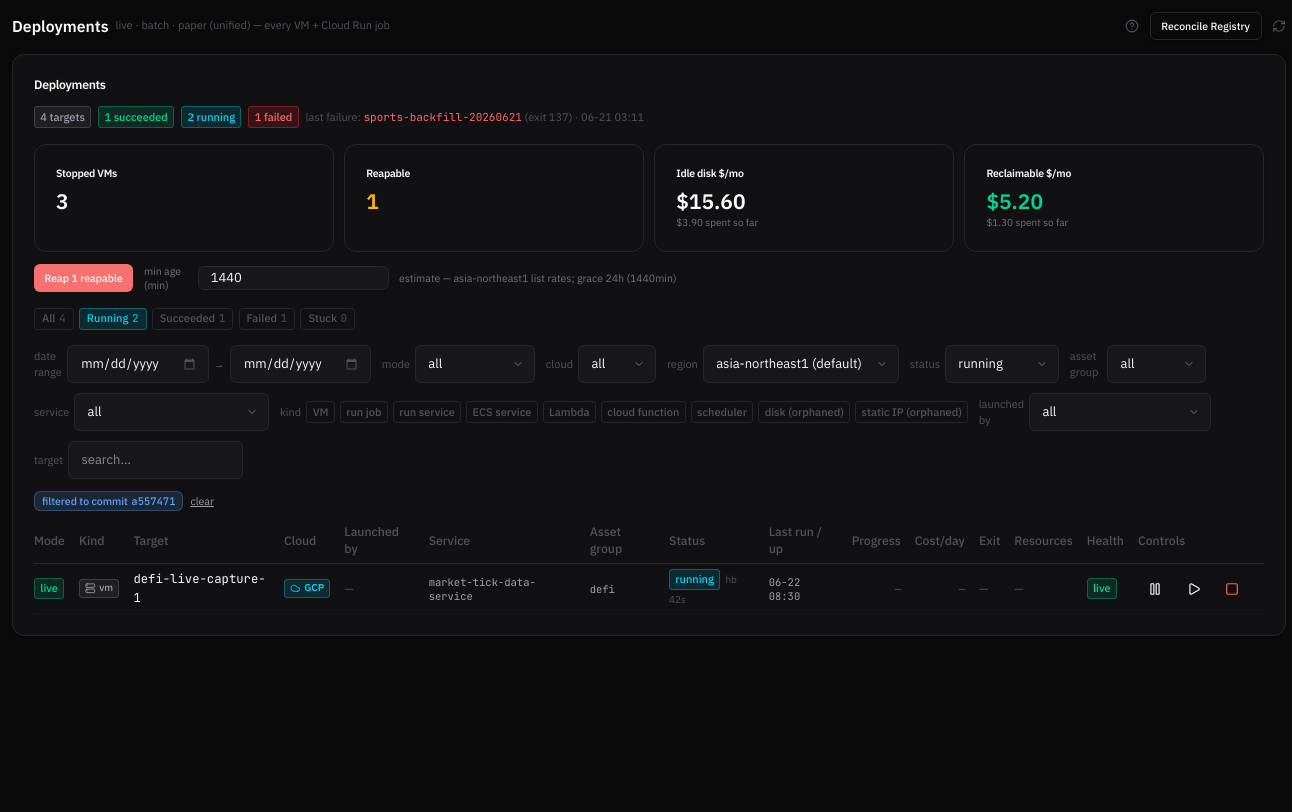
it: Deployments page (unified all-modes table) › the git_commit URL param (Phase 3b artifact-pipeline deep-link) pre-filters to hosts on that commit
Expected: the row with test id "deployment-row-defi-live-capture-1" is shown, 34,564 -> 1264,614
Expected: the element with test id "deployments-git-commit-filter" shows "a557471", 131,494 -> 176,508
Click the button with test id "deployments-git-commit-filter-clear": click(202, 501) 190,494 -> 214,508
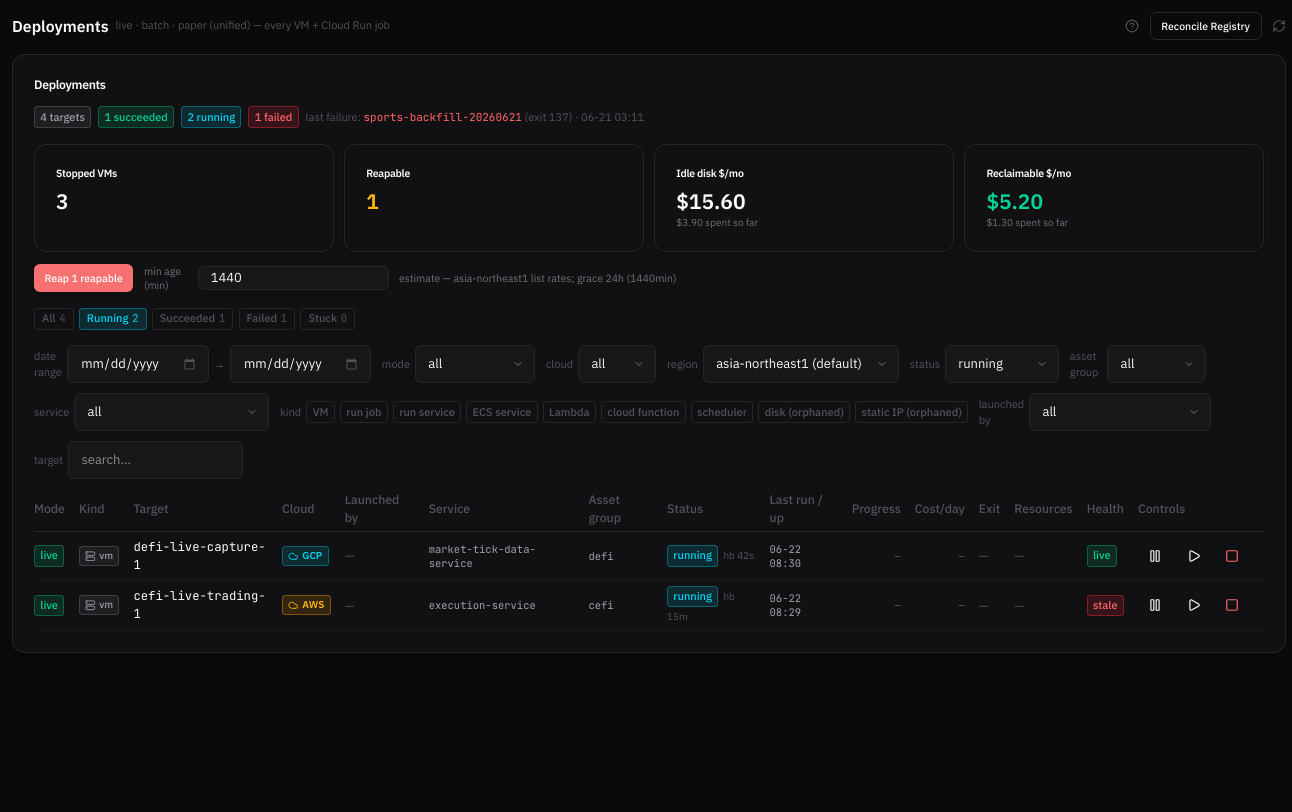
Result: the row with test id "deployment-row-cefi-live-trading-1" is shown at 34,580 -> 1264,630
Result: the element with test id "deployments-git-commit-filter" is gone
